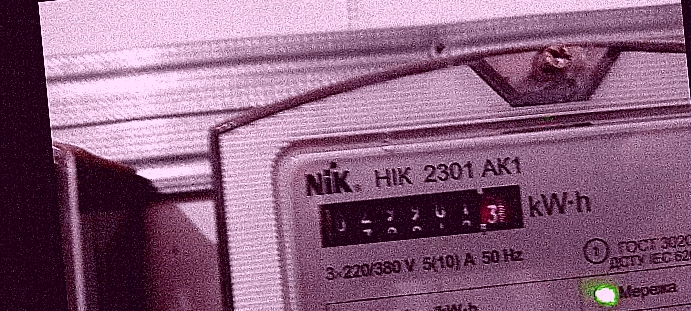0: (431, 194, 448, 220), (332, 210, 349, 233)
1: (456, 192, 472, 216)
2: (356, 205, 374, 225)
3: (484, 201, 499, 224)
9: (407, 198, 423, 221), (382, 201, 396, 224)
screen: (304, 172, 536, 258)
